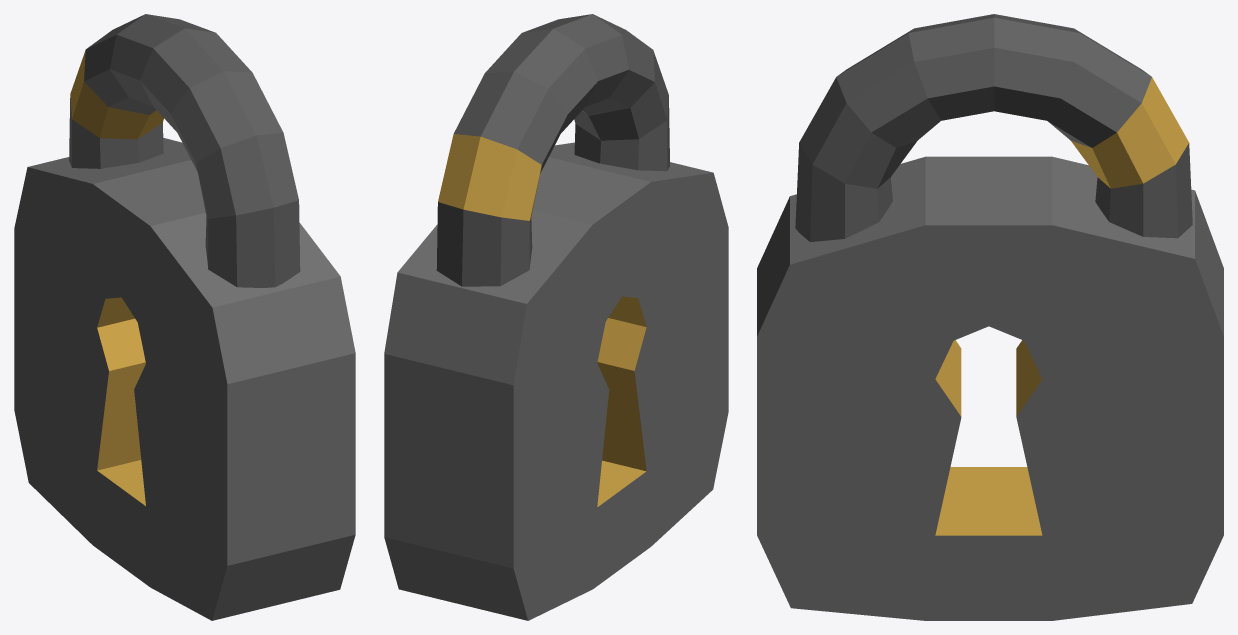
The model's file is CandadoAmarillo.fbx.
The picture shows the model from 3 angles, left to right: view 1: azimuth 30°, elevation 25°; view 2: azimuth 150°, elevation 25°; view 3: azimuth 270°, elevation 25°; orthographic projection. The views are drawn at different scales.
Parts seen in each view (by area): view 1: Cube.001; view 2: Cube.001; view 3: Cube.001.
Boxes of the visible parts, <box> form: Cube.001: <box>14,14,355,620</box>; Cube.001: <box>384,14,728,620</box>; Cube.001: <box>757,14,1223,620</box>.
Bounding box in the file's own units: 5.96 × 23.12 × 17.16.
